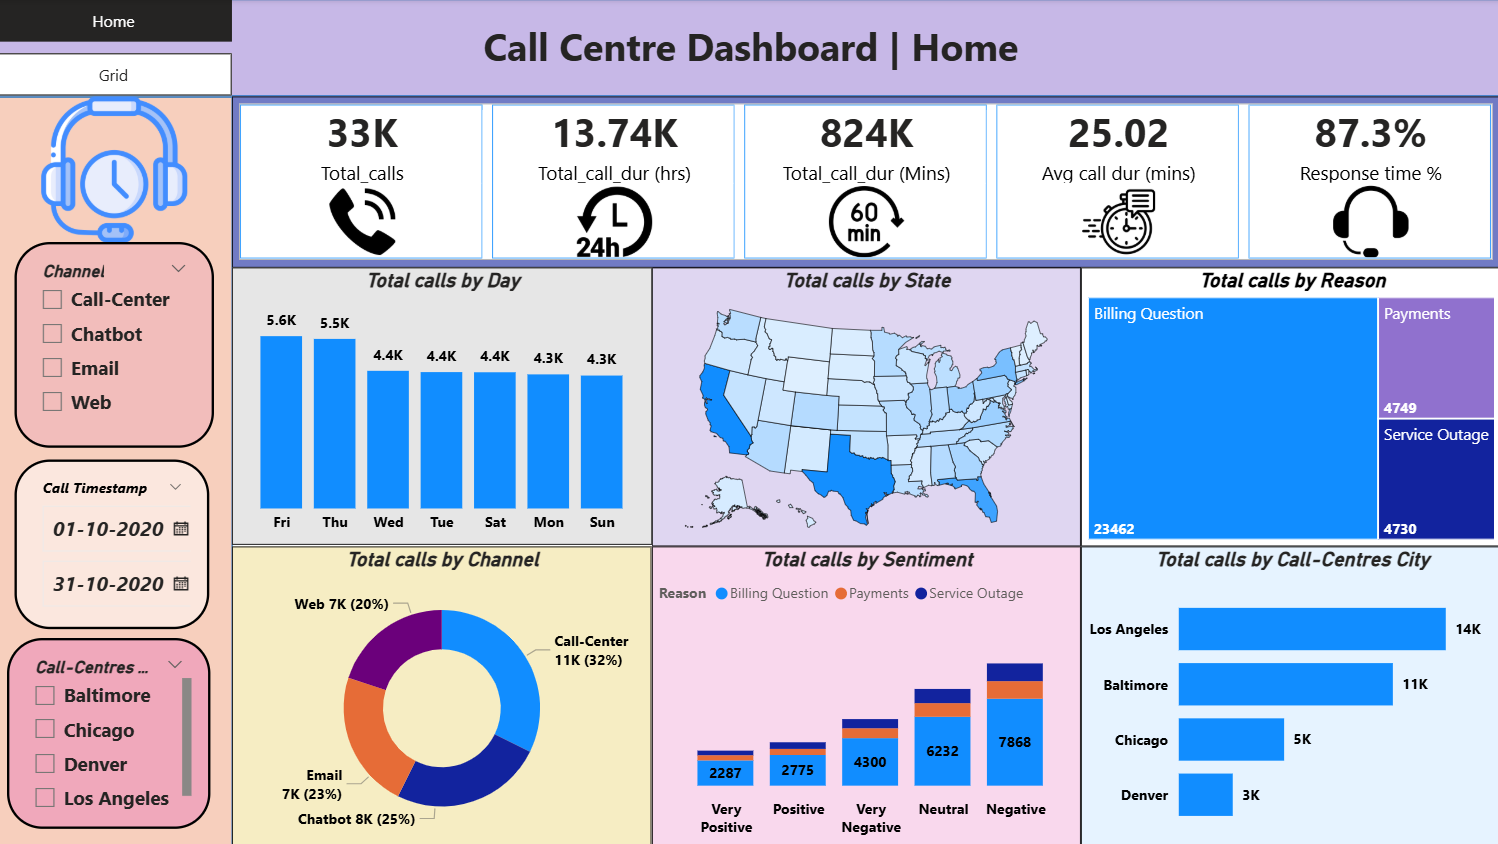

This screenshot's page, from the dashboard's own definition file:
{"tool":"powerbi","page":{"name":"Home","canvas":[1280,720],"ordinal":0},"visuals":[{"type":"shape","box":[0,0,1279.6,82.8],"z":0},{"type":"shape","box":[0,82.5,201.8,637.5],"z":1000},{"type":"cardVisual","fields":{"Data":["All Measures.Total_calls","All Measures.Total_call_dur (hrs)","All Measures.Total_call_dur (Mins)","All Measures.Avg call dur (mins)","All Measures.Response time %"]},"box":[201.8,82.5,1077.7,145.2],"z":2000},{"type":"textbox","box":[371.5,12.2,539.6,59.6],"z":3000},{"type":"shapeMap","title":"Total calls by State","fields":{"Category":["Call Center.State"],"Value":["All Measures.Total_calls"]},"box":[558,227.8,363.8,236.9],"z":4000},{"type":"treemap","title":"Total calls by Reason","fields":{"Group":["Call Center.Reason"],"Values":["All Measures.Total_calls"]},"box":[921.8,227.8,357.7,236.9],"z":5000},{"type":"donutChart","title":"Total calls by Channel","fields":{"Category":["Call Center.Channel"],"Y":["All Measures.Total_calls"]},"box":[201.8,464.7,356.2,255.3],"z":6000},{"type":"columnChart","title":"Total calls by Sentiment","fields":{"Category":["Call Center.Sentiment"],"Y":["All Measures.Total_calls"],"Series":["Call Center.Reason"]},"box":[558,465,364,255],"z":7000},{"type":"clusteredBarChart","title":"Total calls by Call-Centres City","fields":{"Category":["Call Center.Call-Centres City"],"Y":["All Measures.Total_calls"]},"box":[922,465,358,255],"z":8000},{"type":"image","box":[16.8,82.5,169.7,123.8],"z":9000},{"type":"slicer","fields":{"Values":["Call Center.Call Timestamp"]},"box":[16.8,391.3,165.1,143.7],"z":10000},{"type":"slicer","fields":{"Values":["Call Center.Channel"]},"box":[16.6,206.3,169.3,174.4],"z":11000},{"type":"slicer","fields":{"Values":["Call Center.Call-Centres City"]},"box":[10.7,542.7,172.7,162],"z":12000},{"type":"pageNavigator","box":[0,0,201.2,82.8],"z":12001},{"type":"clusteredColumnChart","title":"Total calls by Day","fields":{"Y":["All Measures.Total_calls"],"Category":["Date table.Day"]},"box":[201.2,227.9,356.5,235.5],"z":12002}]}

Visuals, with their boxes on the page's 1280x720 design canvas (x1, y1, x2, y2). These are canvas units, not pixel positions in the 1498x844 screenshot, which may show the page scaled, cropped or inside an application window:
shape: rect(0, 0, 1280, 83)
shape: rect(0, 82, 202, 720)
cardVisual - All Measures.Total_calls x All Measures.Total_call_dur (hrs): rect(202, 82, 1280, 228)
textbox: rect(372, 12, 911, 72)
"Total calls by State" shapeMap: rect(558, 228, 922, 465)
"Total calls by Reason" treemap: rect(922, 228, 1280, 465)
"Total calls by Channel" donutChart: rect(202, 465, 558, 720)
"Total calls by Sentiment" columnChart: rect(558, 465, 922, 720)
"Total calls by Call-Centres City" clusteredBarChart: rect(922, 465, 1280, 720)
image: rect(17, 82, 186, 206)
slicer - Call Center.Call Timestamp: rect(17, 391, 182, 535)
slicer - Call Center.Channel: rect(17, 206, 186, 381)
slicer - Call Center.Call-Centres City: rect(11, 543, 183, 705)
pageNavigator: rect(0, 0, 201, 83)
"Total calls by Day" clusteredColumnChart: rect(201, 228, 558, 463)
